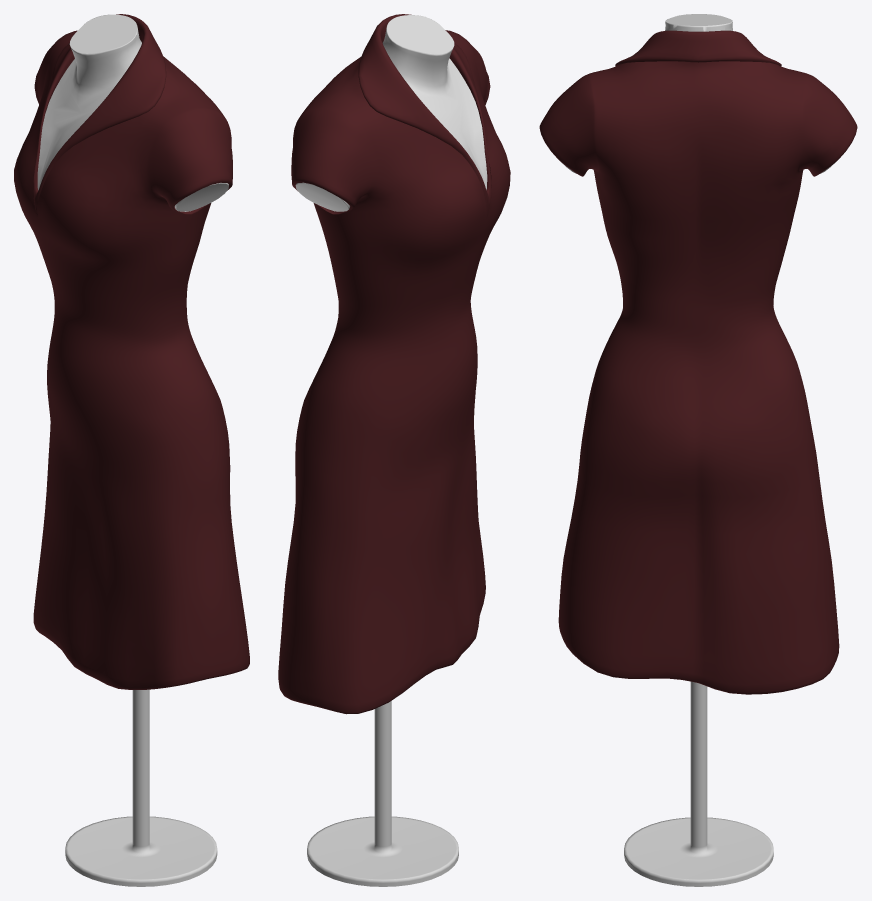
The model's file is dress  3.fbx.
The picture shows the model from 3 angles, left to right: view 1: azimuth 30°, elevation 25°; view 2: azimuth 150°, elevation 25°; view 3: azimuth 270°, elevation 25°; orthographic projection.
Parts seen in each view (by area): view 1: dress, hang; view 2: dress, hang; view 3: dress, hang.
Part boxes in pixels (x1,y1,x2,y2): dress: [14, 14, 249, 689]; hang: [37, 14, 228, 886]; dress: [278, 14, 510, 714]; hang: [295, 15, 487, 886]; dress: [539, 30, 857, 694]; hang: [560, 14, 835, 886].
Bounding box in the file's own units: 134 × 618 × 216.
